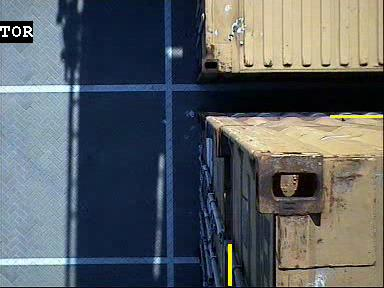groundmarker_2: (131, 46, 210, 101), (132, 174, 211, 229)
